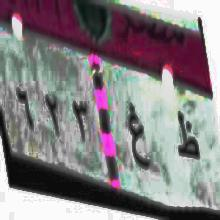2: (45, 92, 60, 138)
3: (72, 98, 90, 148)
6: (16, 86, 34, 138)
Thaa: (176, 109, 202, 171)
ghayn: (126, 97, 150, 176)
